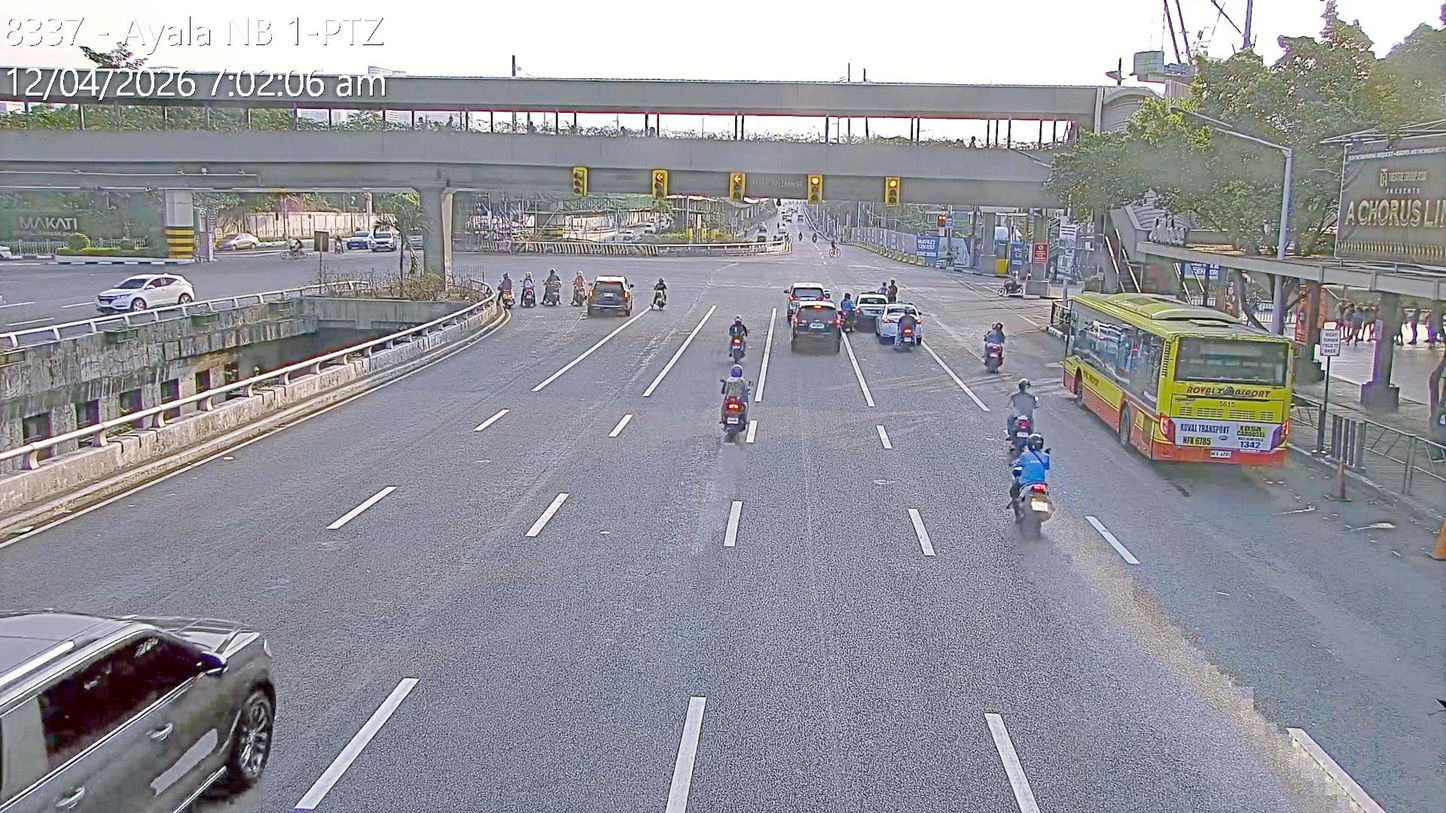Car: (0, 608, 276, 812), (94, 273, 195, 314), (788, 298, 842, 353), (585, 275, 635, 318), (875, 303, 923, 347), (782, 282, 828, 324), (854, 293, 891, 330), (215, 233, 261, 252), (368, 226, 398, 251), (345, 227, 371, 252)
Motor: (1004, 431, 1050, 516), (1003, 378, 1039, 453), (717, 378, 750, 442), (983, 320, 1008, 366), (540, 267, 564, 312), (836, 289, 856, 335), (495, 273, 517, 311), (997, 270, 1026, 298), (570, 269, 589, 308), (520, 270, 538, 310), (727, 330, 748, 362), (651, 287, 667, 309)
Not Accident: (998, 380, 1064, 537), (493, 262, 640, 320), (849, 279, 927, 356), (779, 277, 847, 362)
